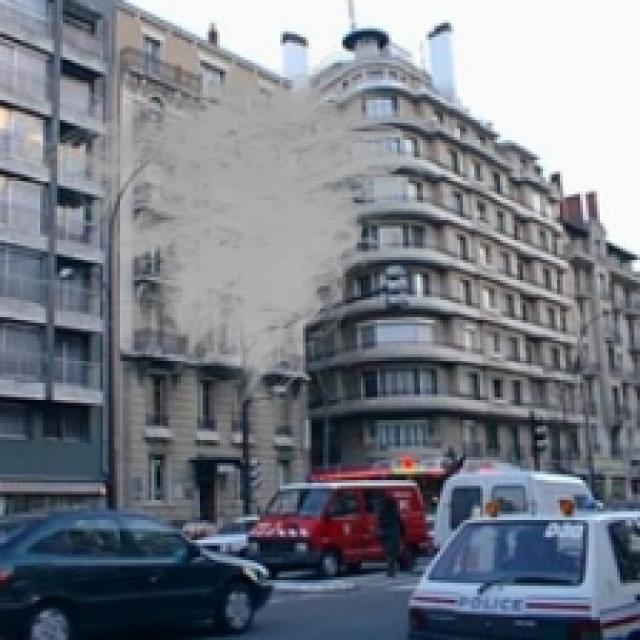smoke: (23, 43, 440, 411)
